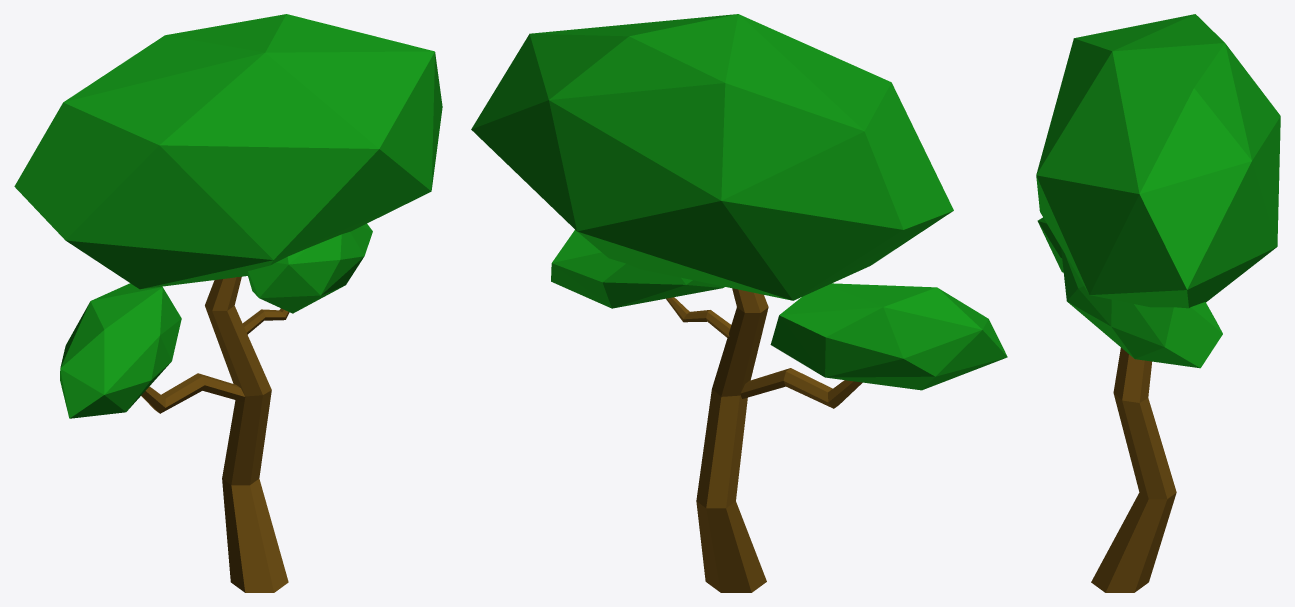
File: Arvore 1.fbx
The picture shows the model from 3 angles, left to right: view 1: azimuth 30°, elevation 25°; view 2: azimuth 150°, elevation 25°; view 3: azimuth 270°, elevation 25°; orthographic projection. The views are drawn at different scales.
Parts seen in each view (by area): view 1: Sphere, Cilindro, Sphere.002, Sphere.001, Cilindro.002, Cilindro.001; view 2: Sphere, Sphere.002, Cilindro, Sphere.001, Cilindro.002, Cilindro.001; view 3: Sphere, Cilindro, Sphere.001, Sphere.002.
Boxes of the visible parts, left/top/right/bottom form: Sphere: left=14, top=14, right=442, bottom=289; Cilindro: left=205, top=276, right=288, bottom=592; Sphere.002: left=60, top=283, right=181, bottom=418; Sphere.001: left=247, top=223, right=372, bottom=313; Cilindro.002: left=141, top=373, right=244, bottom=413; Cilindro.001: left=242, top=308, right=289, bottom=334; Sphere: left=471, top=14, right=953, bottom=300; Sphere.002: left=770, top=283, right=1007, bottom=390; Cilindro: left=696, top=288, right=768, bottom=592; Sphere.001: left=551, top=230, right=724, bottom=308; Cilindro.002: left=740, top=368, right=862, bottom=408; Cilindro.001: left=666, top=297, right=731, bottom=337; Sphere: left=1036, top=14, right=1280, bottom=308; Cilindro: left=1091, top=348, right=1176, bottom=592; Sphere.001: left=1061, top=247, right=1222, bottom=368; Sphere.002: left=1037, top=217, right=1063, bottom=272.
Bounding box in the file's own units: 277 × 320 × 133.
